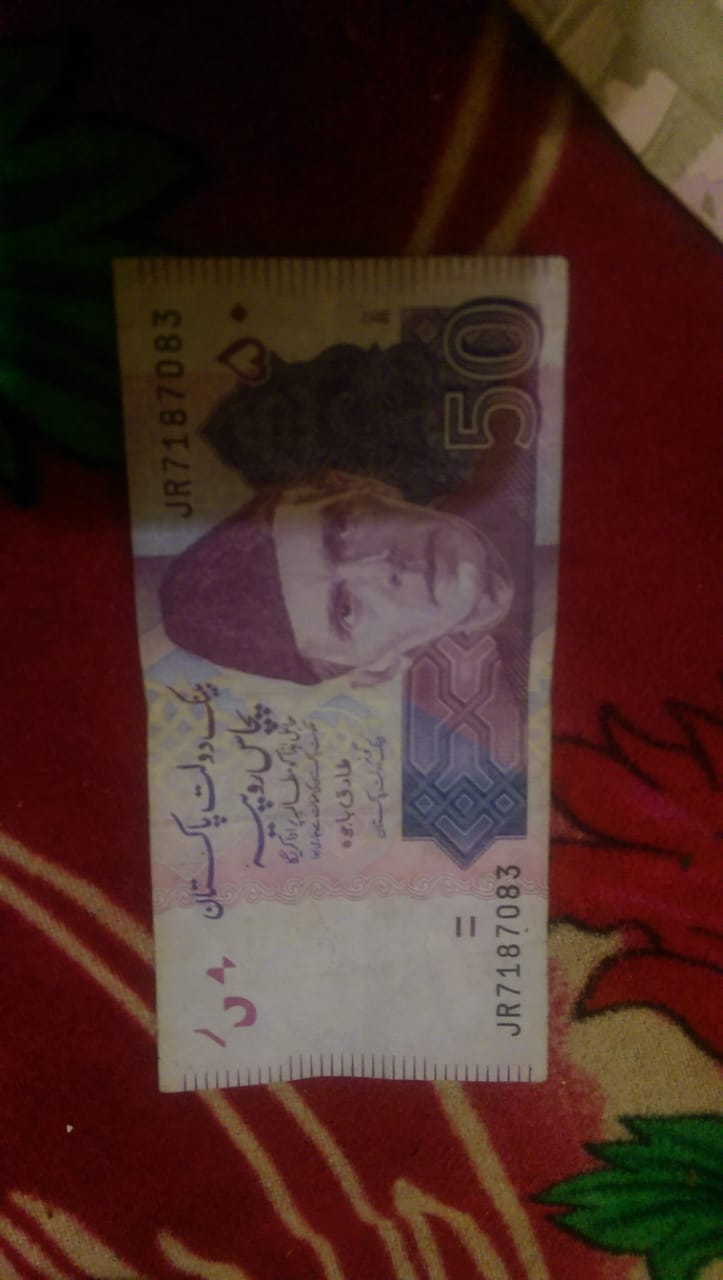50 rupee: (89, 234, 568, 1098)
